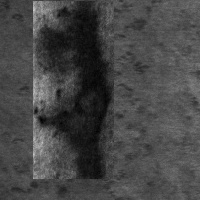patches: (33, 1, 114, 179)
rolled-in_scale: (6, 80, 138, 199), (32, 31, 152, 106)
